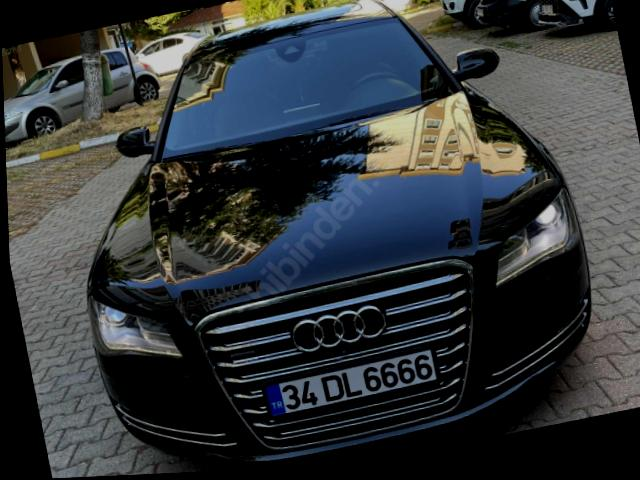plaka: (265, 348, 439, 417)
